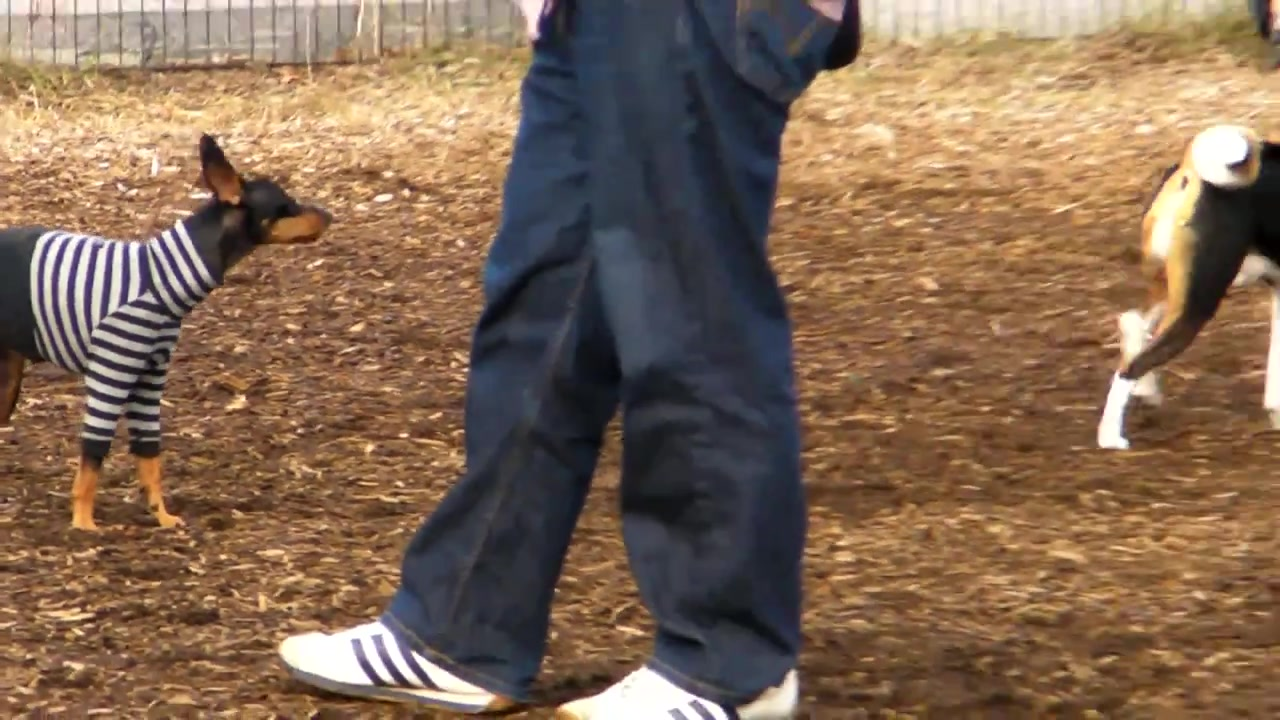dog: (2, 134, 335, 541)
